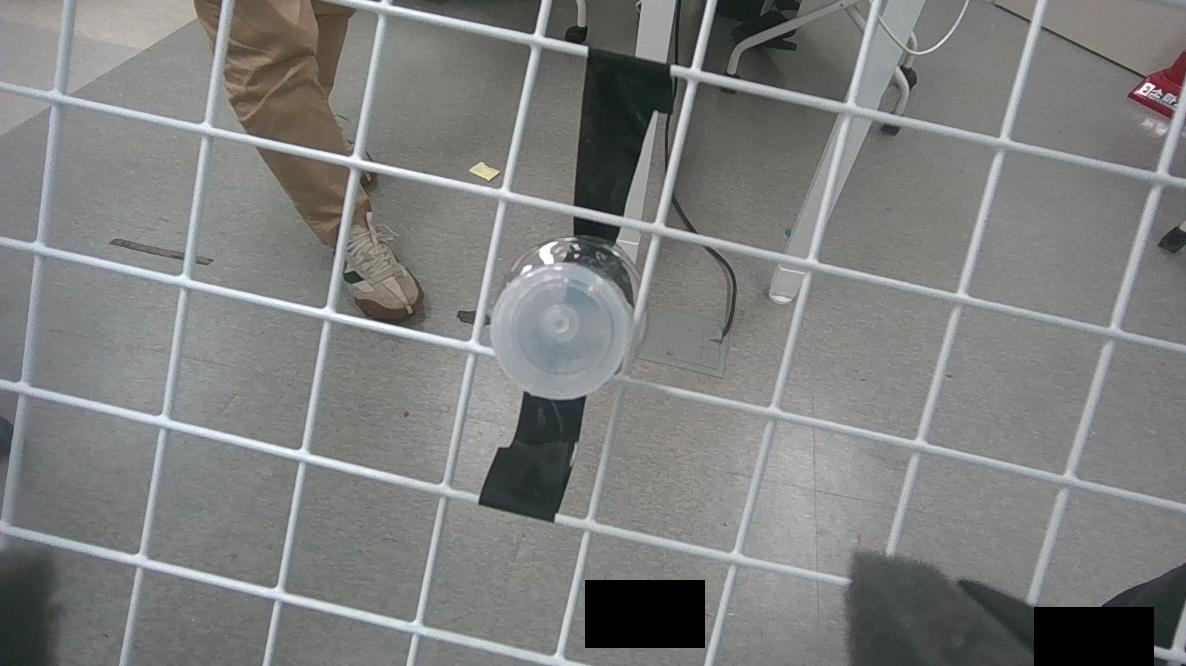Cap: (491, 265, 633, 404)
